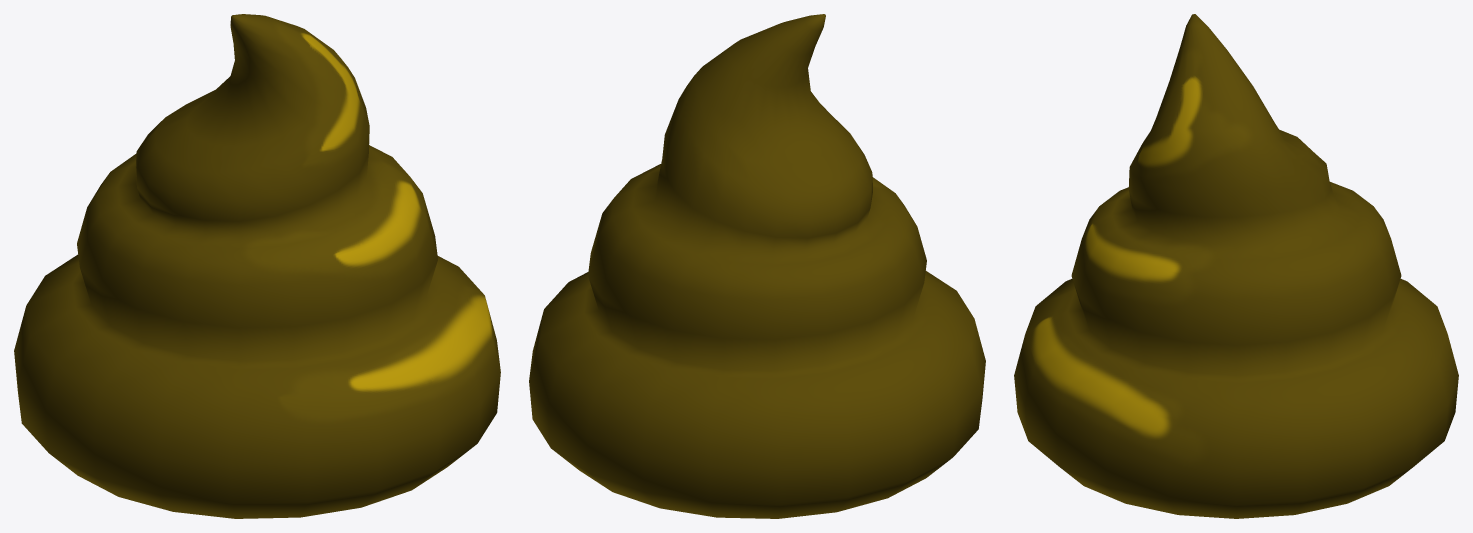
The model's file is Poo.fbx.
3 views of the same model, side by side, from view 1: azimuth 30°, elevation 25°; view 2: azimuth 150°, elevation 25°; view 3: azimuth 270°, elevation 25° (orthographic). The views are drawn at different scales.
Parts seen in each view (by area): view 1: mesh_input.001; view 2: mesh_input.001; view 3: mesh_input.001.
Boxes of the visible parts, box(x1,y1,x2,y2) form: mesh_input.001: box(14, 14, 500, 518); mesh_input.001: box(529, 14, 985, 518); mesh_input.001: box(1014, 14, 1458, 518).
Bounding box in the file's own units: 19.32 × 19.37 × 19.32.
Materials: 1 (1 with a texture image).
